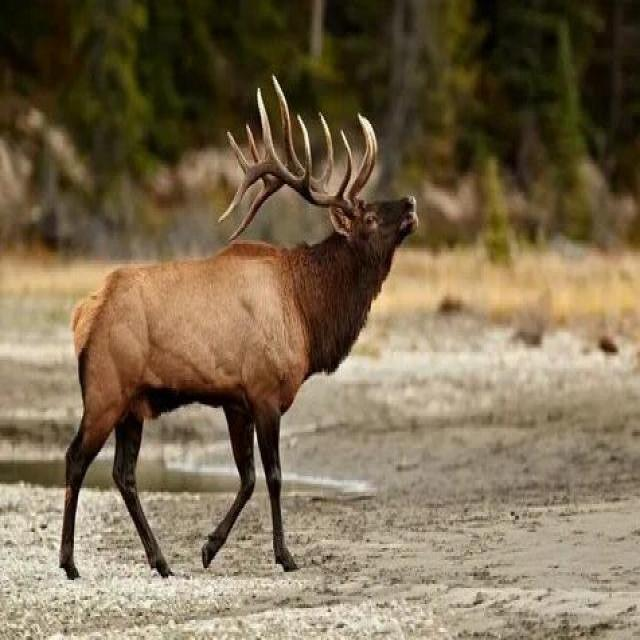deer: (44, 113, 444, 602)
